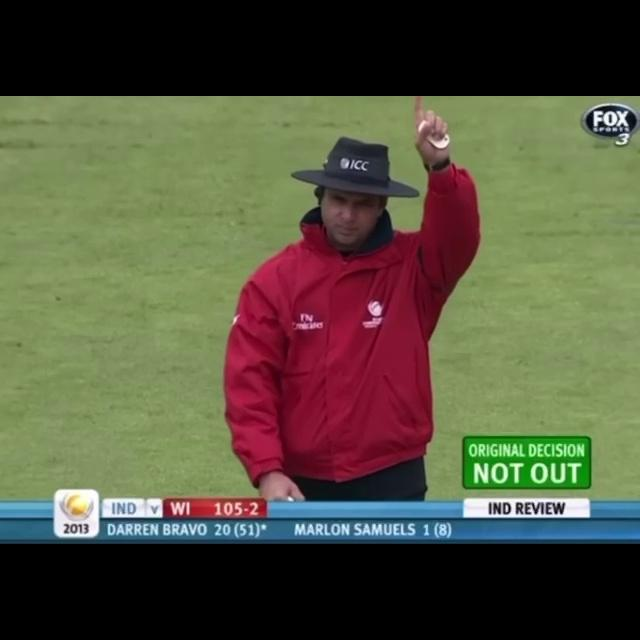umpire: (200, 96, 525, 499)
